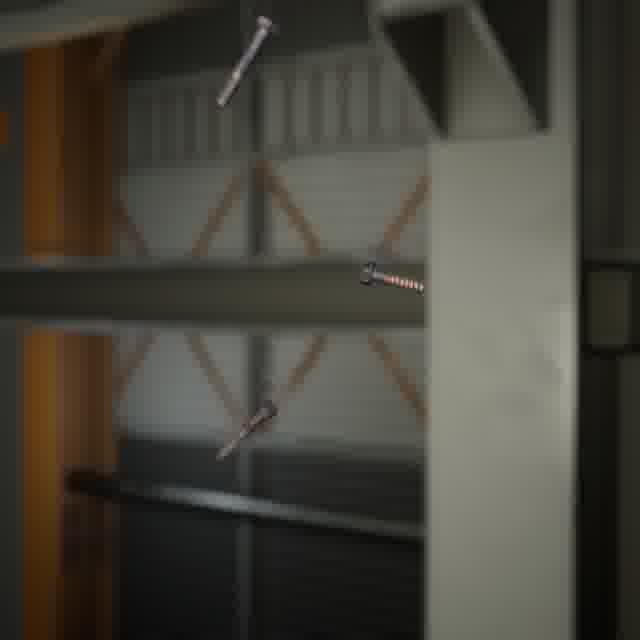bolt: (209, 11, 284, 112), (212, 394, 281, 464), (355, 254, 433, 298)
